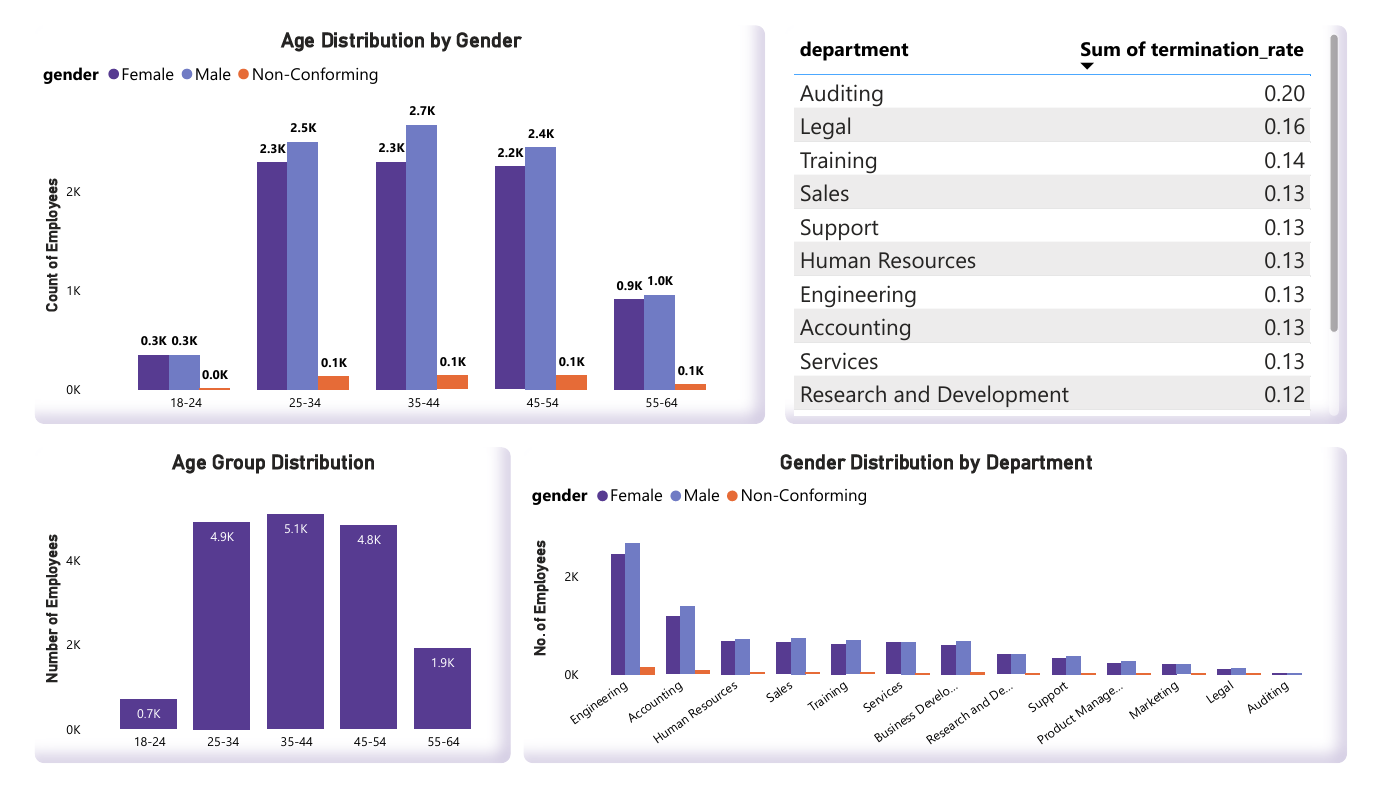

What the dashboard file says about the page in this screenshot:
{"tool":"powerbi","page":{"name":"Page 2","canvas":[1280,720],"ordinal":1},"visuals":[{"type":"columnChart","title":"Age Group Distribution","fields":{"Category":["age_group.age_group"],"Y":["Sum(age_group.count)"]},"box":[8.7,403,457.8,303.5],"z":0},{"type":"clusteredColumnChart","title":"Age Distribution by Gender","fields":{"Category":["age_group_gender.age_group"],"Y":["Sum(age_group_gender.count)"],"Series":["age_group_gender.gender"]},"box":[8.7,0,700.3,383.1],"z":1},{"type":"tableEx","fields":{"Values":["turnover_rate.department","Sum(turnover_rate.termination_rate)"]},"box":[726.5,0,538.6,383.1],"z":2},{"type":"clusteredColumnChart","title":"Gender Distribution by Department","fields":{"Category":["gender_department.department"],"Y":["Sum(gender_department.count)"],"Series":["gender_department.gender"]},"box":[476.4,403,788.7,303.5],"z":3}]}

Visuals, with their boxes in screenshot pixels (x1, y1, x2, y2), scaled from the page's 1280x720 canvas onto the 1386x799 screenshot:
"Age Group Distribution" columnChart: crop(9, 447, 505, 784)
"Age Distribution by Gender" clusteredColumnChart: crop(9, 0, 768, 425)
tableEx - turnover_rate.department x Sum(turnover_rate.termination_rate): crop(787, 0, 1370, 425)
"Gender Distribution by Department" clusteredColumnChart: crop(516, 447, 1370, 784)
